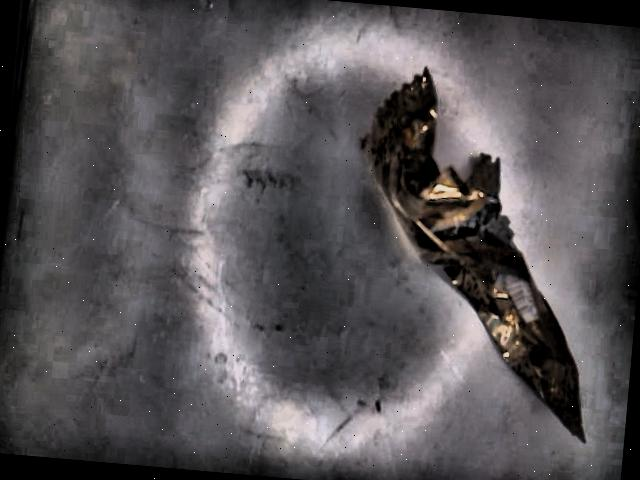Plastic: (359, 69, 588, 446)
